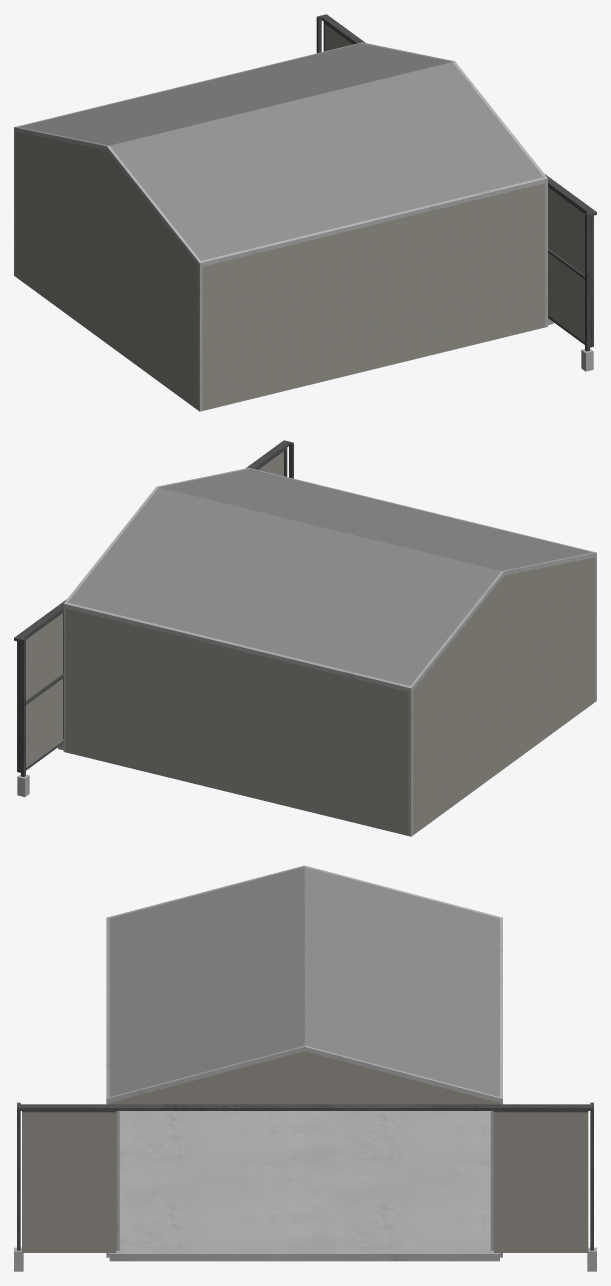
Rendered from gen_open_hangar08_slide_door-12x13x5-cbj_LOD01.gltf.
3 renders of one model, top to bottom at view 1: azimuth 30°, elevation 25°; view 2: azimuth 150°, elevation 25°; view 3: azimuth 270°, elevation 25°, orthographic. The views are drawn at different scales.
Visible parts, largest first — view 1: Cube.006; view 2: Cube.006; view 3: Cube.006.
Boxes of the visible parts, box(x1,y1,x2,y2) form: Cube.006: box(14, 14, 596, 411); Cube.006: box(14, 440, 596, 836); Cube.006: box(14, 865, 596, 1271).
Size of the model in its own units: 13.47 by 7.58 by 17.93.
